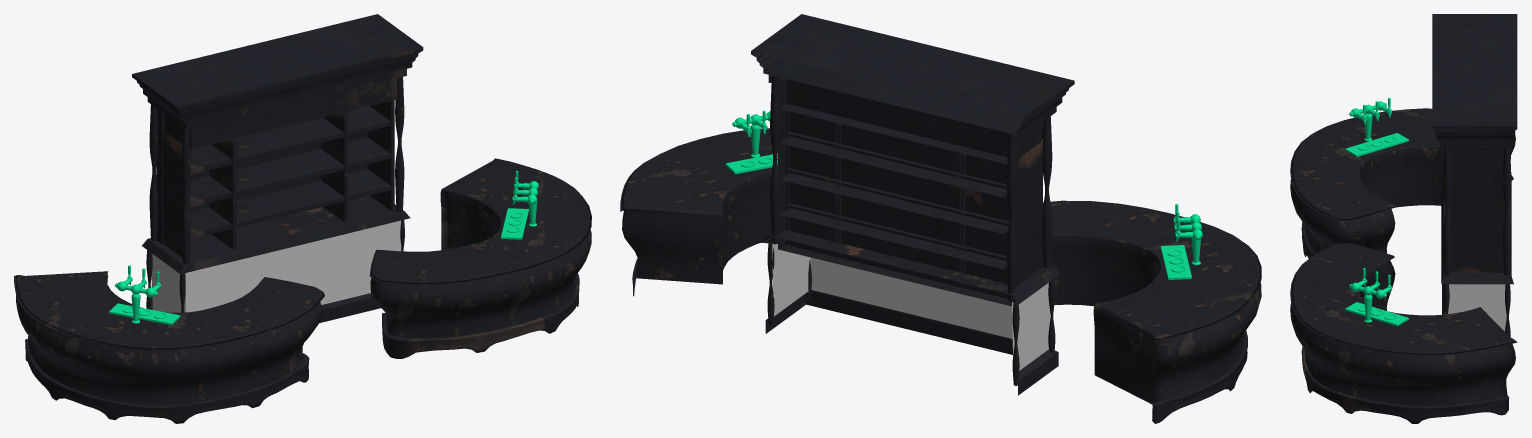
File: Bar_Scale.fbx
The picture shows the model from 3 angles, left to right: view 1: azimuth 30°, elevation 25°; view 2: azimuth 150°, elevation 25°; view 3: azimuth 270°, elevation 25°; orthographic projection. The views are drawn at different scales.
Visible parts, largest first — view 1: Bar1; view 2: Bar1; view 3: Bar1.
Boxes of the visible parts, x1,y1,x2,y2 form: Bar1: (14,14,591,423); Bar1: (620,14,1261,423); Bar1: (1290,14,1517,423).
Bounding box in the file's own units: 802 × 363 × 313.
